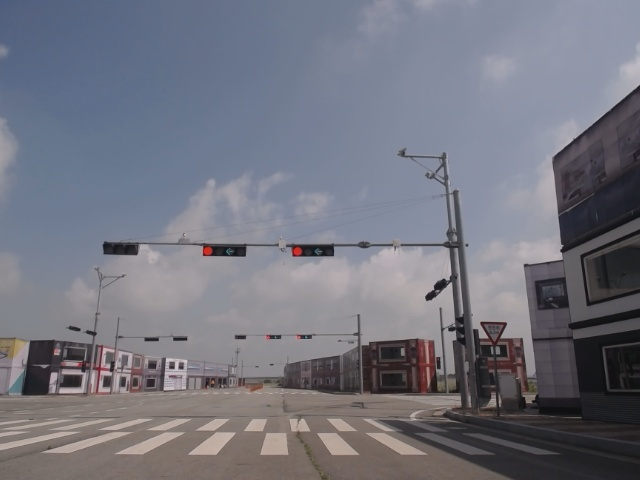left_green_4: (203, 244, 246, 257), (291, 245, 334, 257)
